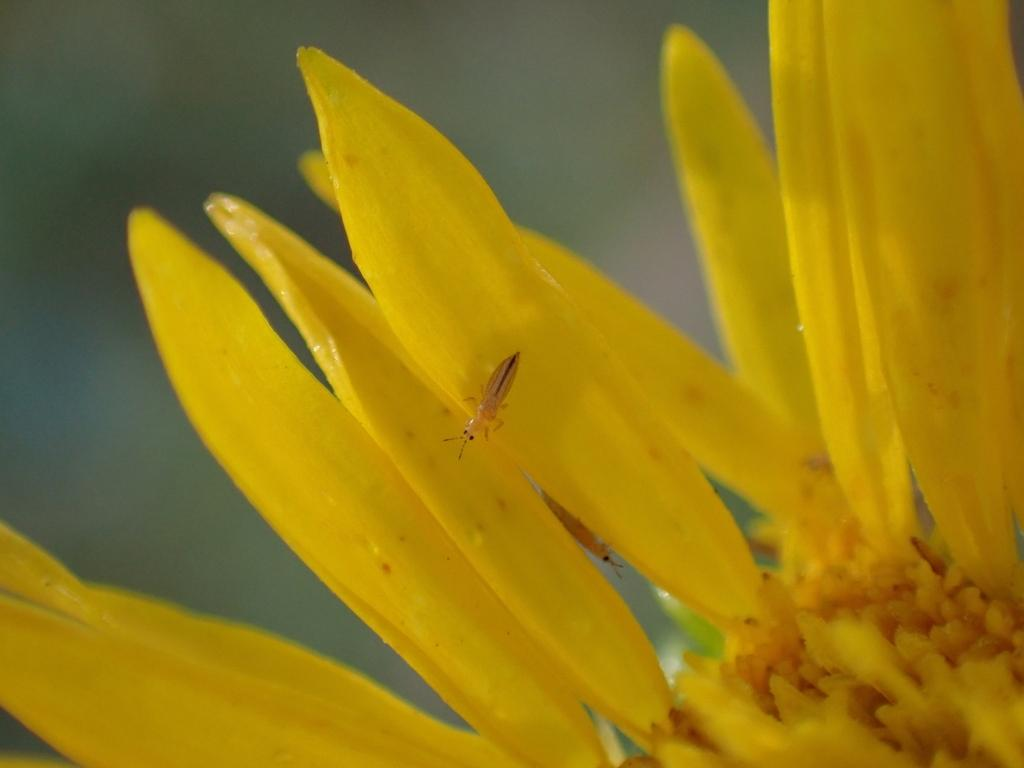tiny_pests: (426, 337, 548, 466)
